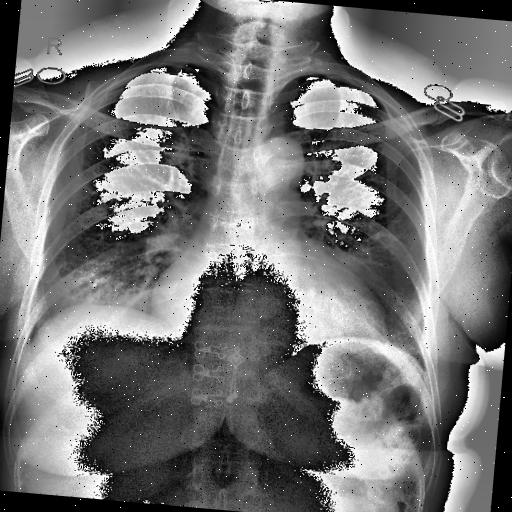0- Aortic enlargement: (244, 135, 306, 195), (250, 136, 308, 182)
13- Pulmonary fibrosis: (128, 286, 152, 308)
3- Cardiomegaly: (149, 250, 392, 344), (149, 273, 389, 357), (150, 276, 395, 340)
